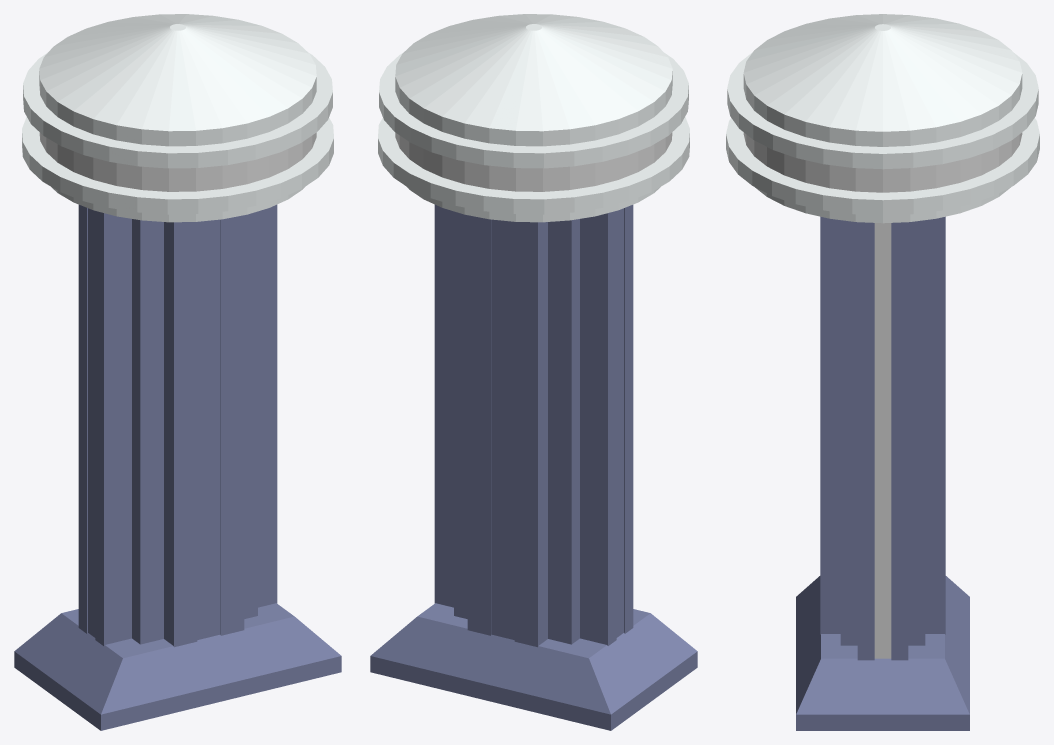
Rendered from tower.fbx.
3 views of the same model, side by side, from view 1: azimuth 30°, elevation 25°; view 2: azimuth 150°, elevation 25°; view 3: azimuth 270°, elevation 25° (orthographic).
Parts seen in each view (by area): view 1: Plane.008; view 2: Plane.008; view 3: Plane.008.
Boxes of the visible parts, x1,y1,x2,y2 form: Plane.008: [14, 14, 341, 730]; Plane.008: [370, 14, 697, 730]; Plane.008: [726, 14, 1039, 730].
Size of the model in its own units: 225 by 510 by 225.
